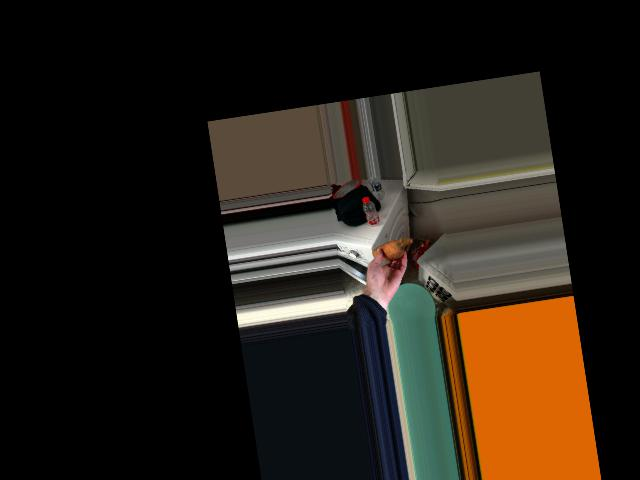sweet_potato: (373, 238, 406, 260)
